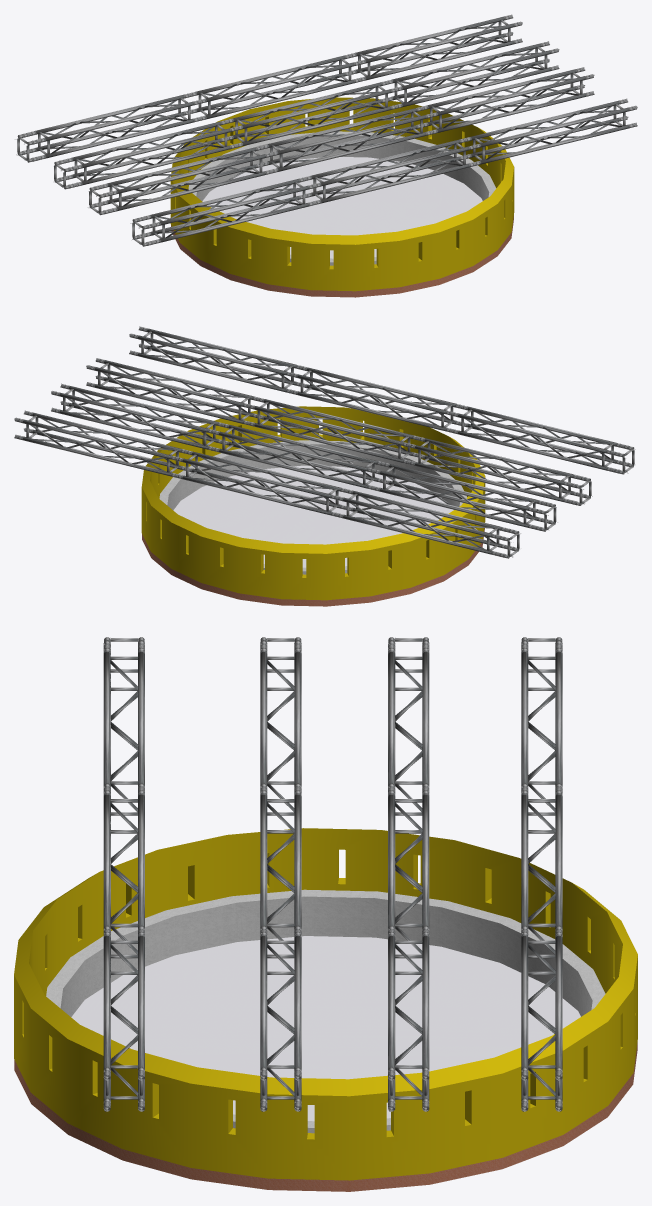
Rendered from Base Template Zootropio Gigantismo.glb.
3 views of the same model, one above another, from view 1: azimuth 30°, elevation 25°; view 2: azimuth 150°, elevation 25°; view 3: azimuth 270°, elevation 25° (orthographic). The views are drawn at different scales.
Visible parts, largest first — view 1: SketchUp, SketchUp.031, SquareTruss.003, SquareTruss.005, SquareTruss.002, SquareTruss.004, SketchUp.014, SketchUp.027, SketchUp.013; view 2: SketchUp, SquareTruss.003, SquareTruss.004, SquareTruss.002, SquareTruss.005, SketchUp.031, SketchUp.014, SketchUp.027, SketchUp.013; view 3: SketchUp, SketchUp.031, SketchUp.014, SquareTruss.004, SquareTruss.002, SquareTruss.003, SquareTruss.005, SketchUp.027, SketchUp.013.
Boxes of the visible parts, box(x1,y1,x2,y2) form: SketchUp: box(170, 97, 514, 291); SketchUp.031: box(202, 157, 482, 258); SquareTruss.003: box(88, 67, 594, 215); SquareTruss.005: box(130, 98, 637, 246); SquareTruss.002: box(15, 14, 522, 162); SquareTruss.004: box(54, 41, 559, 189); SketchUp.014: box(196, 135, 489, 200); SketchUp.027: box(171, 216, 513, 297); SketchUp.013: box(188, 131, 496, 265); SketchUp: box(141, 406, 485, 600); SquareTruss.003: box(86, 358, 592, 505); SquareTruss.004: box(51, 383, 557, 531); SquareTruss.002: box(14, 410, 520, 558); SquareTruss.005: box(129, 326, 635, 474); SketchUp.031: box(173, 465, 453, 567); SketchUp.014: box(167, 444, 459, 510); SketchUp.027: box(142, 528, 484, 606); SketchUp.013: box(159, 440, 467, 574); SketchUp: box(14, 828, 637, 1180); SketchUp.031: box(71, 936, 580, 1121); SketchUp.014: box(60, 896, 592, 1016); SquareTruss.004: box(388, 637, 429, 1111); SquareTruss.002: box(521, 637, 562, 1111); SquareTruss.003: box(260, 637, 301, 1111); SquareTruss.005: box(103, 637, 144, 1111); SketchUp.027: box(14, 1042, 637, 1191); SketchUp.013: box(46, 889, 605, 1133).
Size of the model in its own units: 74.55 by 15.19 by 44.48.
Materials: 8 (7 with a texture image).
